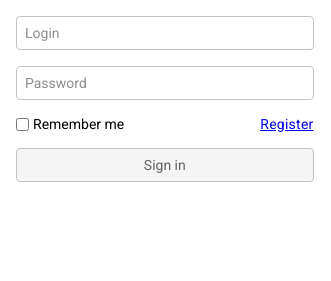
it: LoginInput › when input is not valid and login button clicked › should show validation errors
The width and height of the screenshot is (331, 281).
Click the button "Sign in". click: [165, 165]
box: [16,148,314,182]
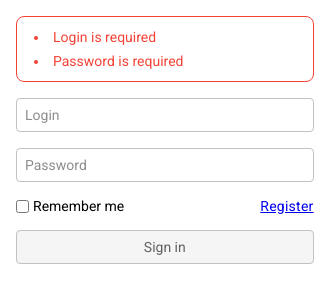
expect the list item "Login is required" is shown: met, box [53,29,156,45]
expect the list item "Password is required" is shown: met, box [53,53,184,69]
